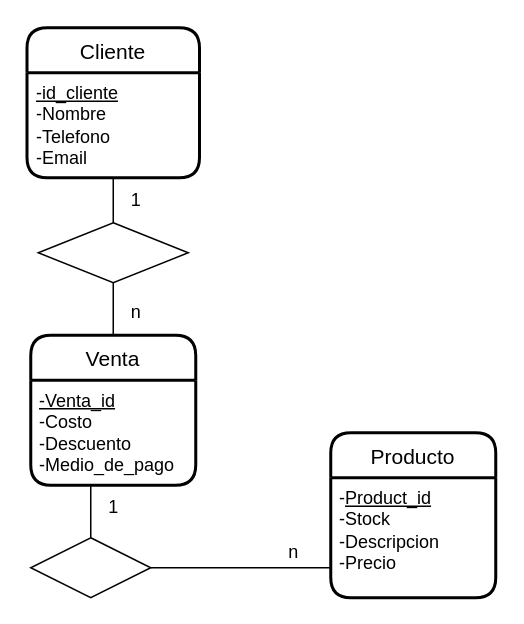
Image size: 524x624. Some labels were removed from this diagram. Each missing label, with the centre of its shape:
Contiene: the point at 90,567
Realiza: the point at 112,252
